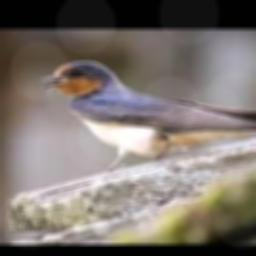Swallow: (39, 61, 256, 172)
